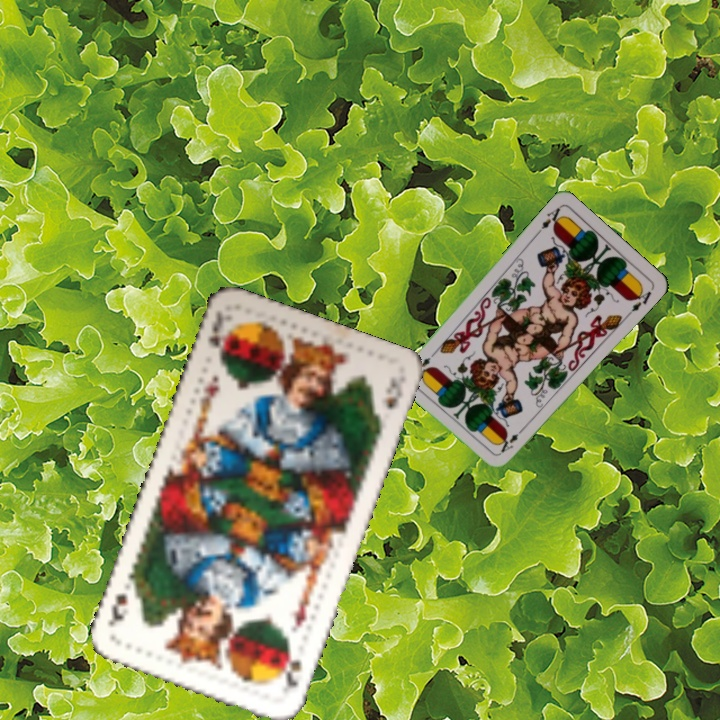EA: (533, 203, 566, 237), (496, 423, 527, 455)
SK: (276, 644, 305, 697), (205, 309, 230, 365)
